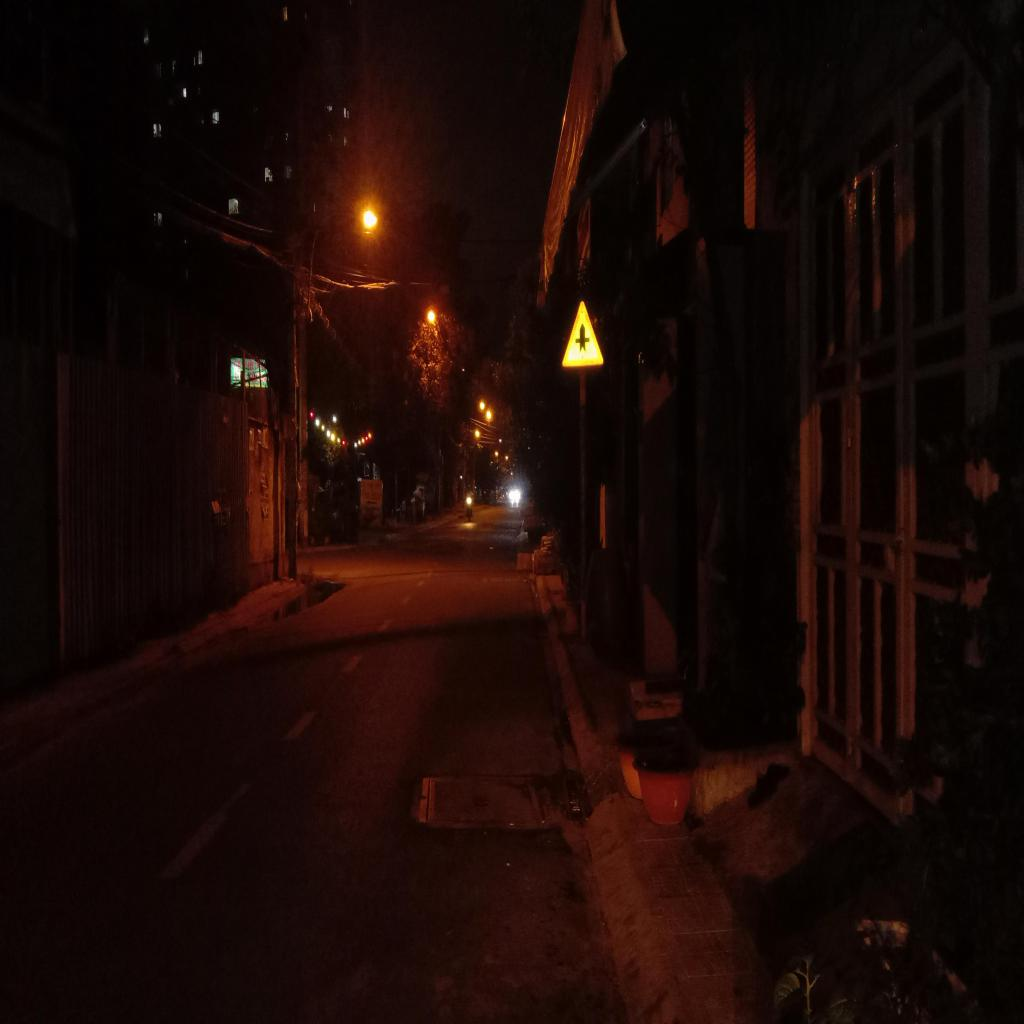giao_nhau_voi_duong_khong_uu_tien: (560, 296, 604, 368)
